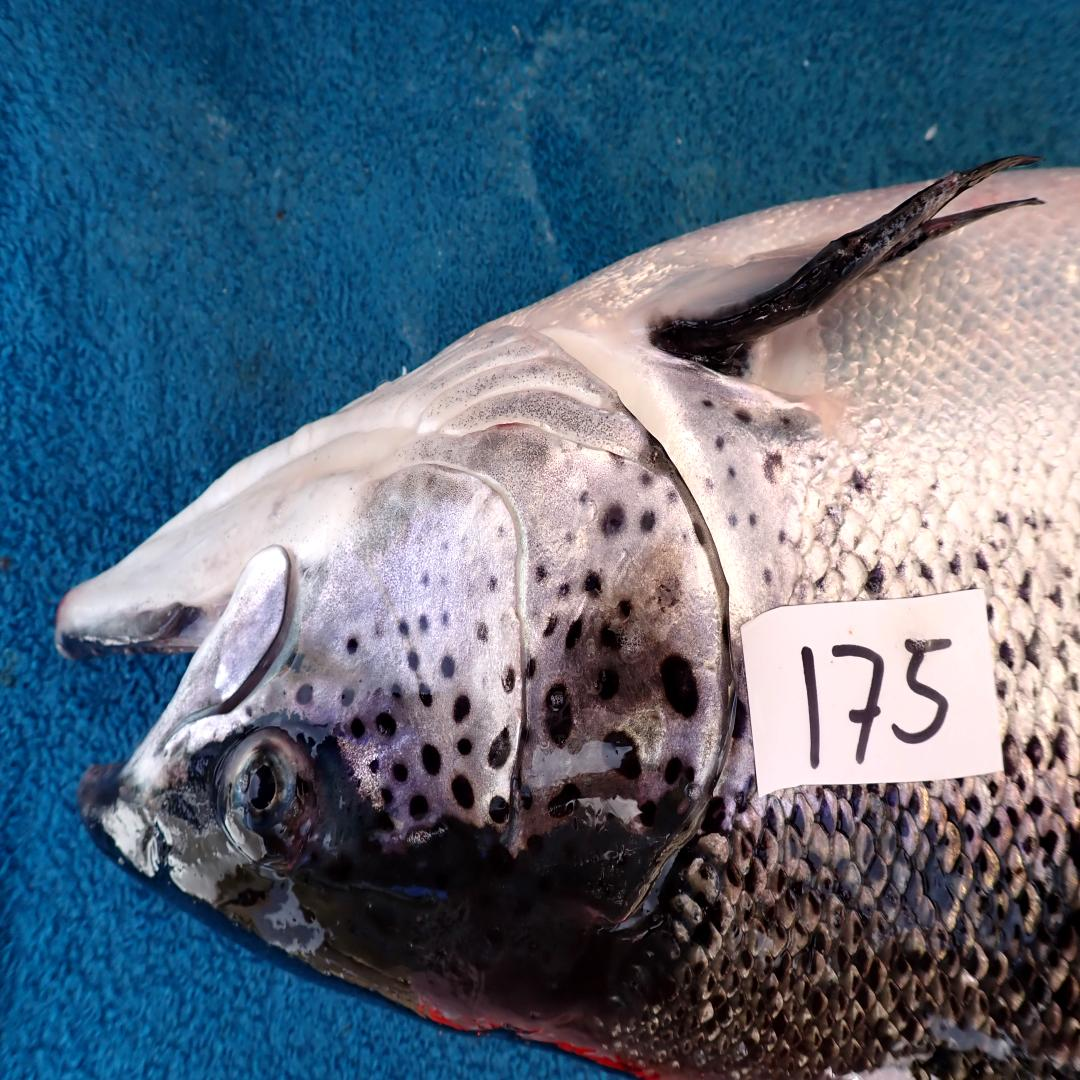roi: (288, 320, 736, 851)
